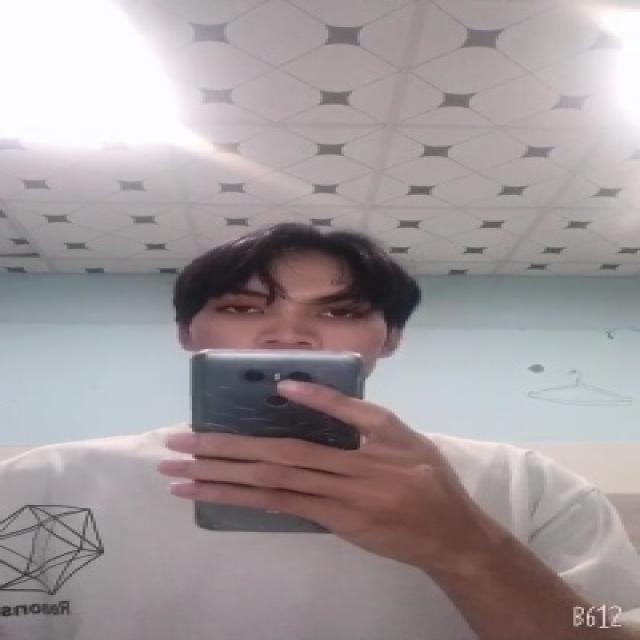Phone: (188, 346, 369, 536)
